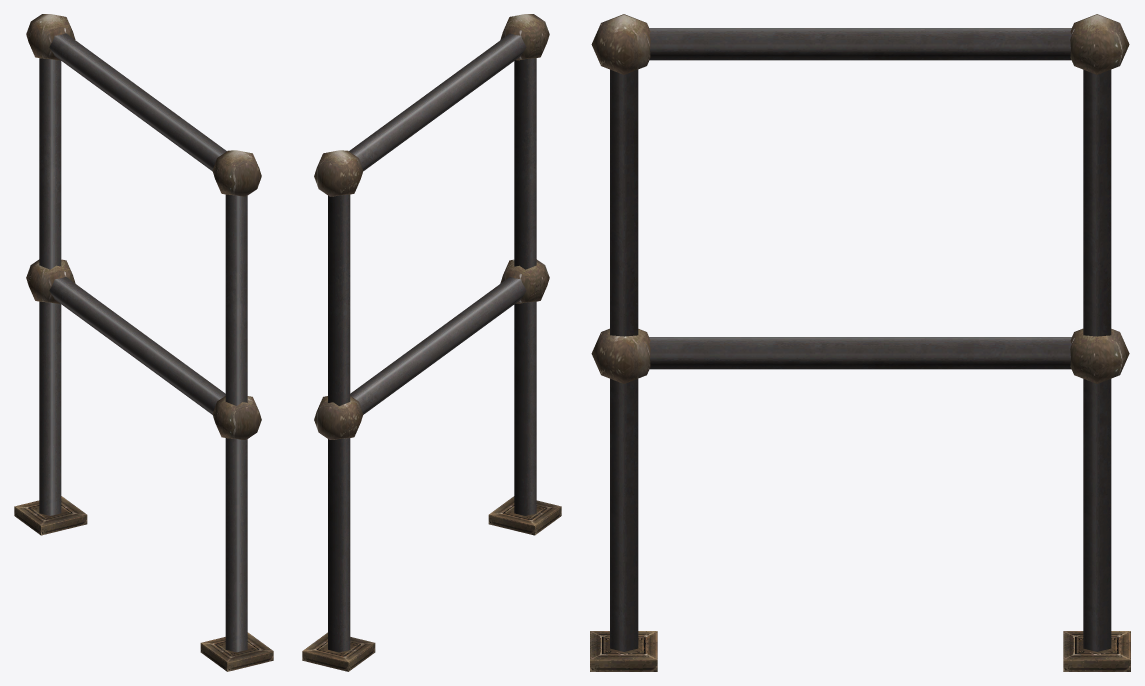
Rendered from railings_factory_1m.DAE.
The picture shows the model from 3 angles, left to right: view 1: azimuth 30°, elevation 25°; view 2: azimuth 150°, elevation 25°; view 3: azimuth 270°, elevation 25°; orthographic projection. The views are drawn at different scales.
Parts seen in each view (by area): view 1: Object070; view 2: Object070; view 3: Object070.
Boxes of the visible parts, x1=… form: Object070: x1=14, y1=14, x2=273, y2=671; Object070: x1=302, y1=14, x2=561, y2=671; Object070: x1=590, y1=14, x2=1130, y2=671.
Size of the model in its own units: 0.125 by 1.31 by 0.9994.
